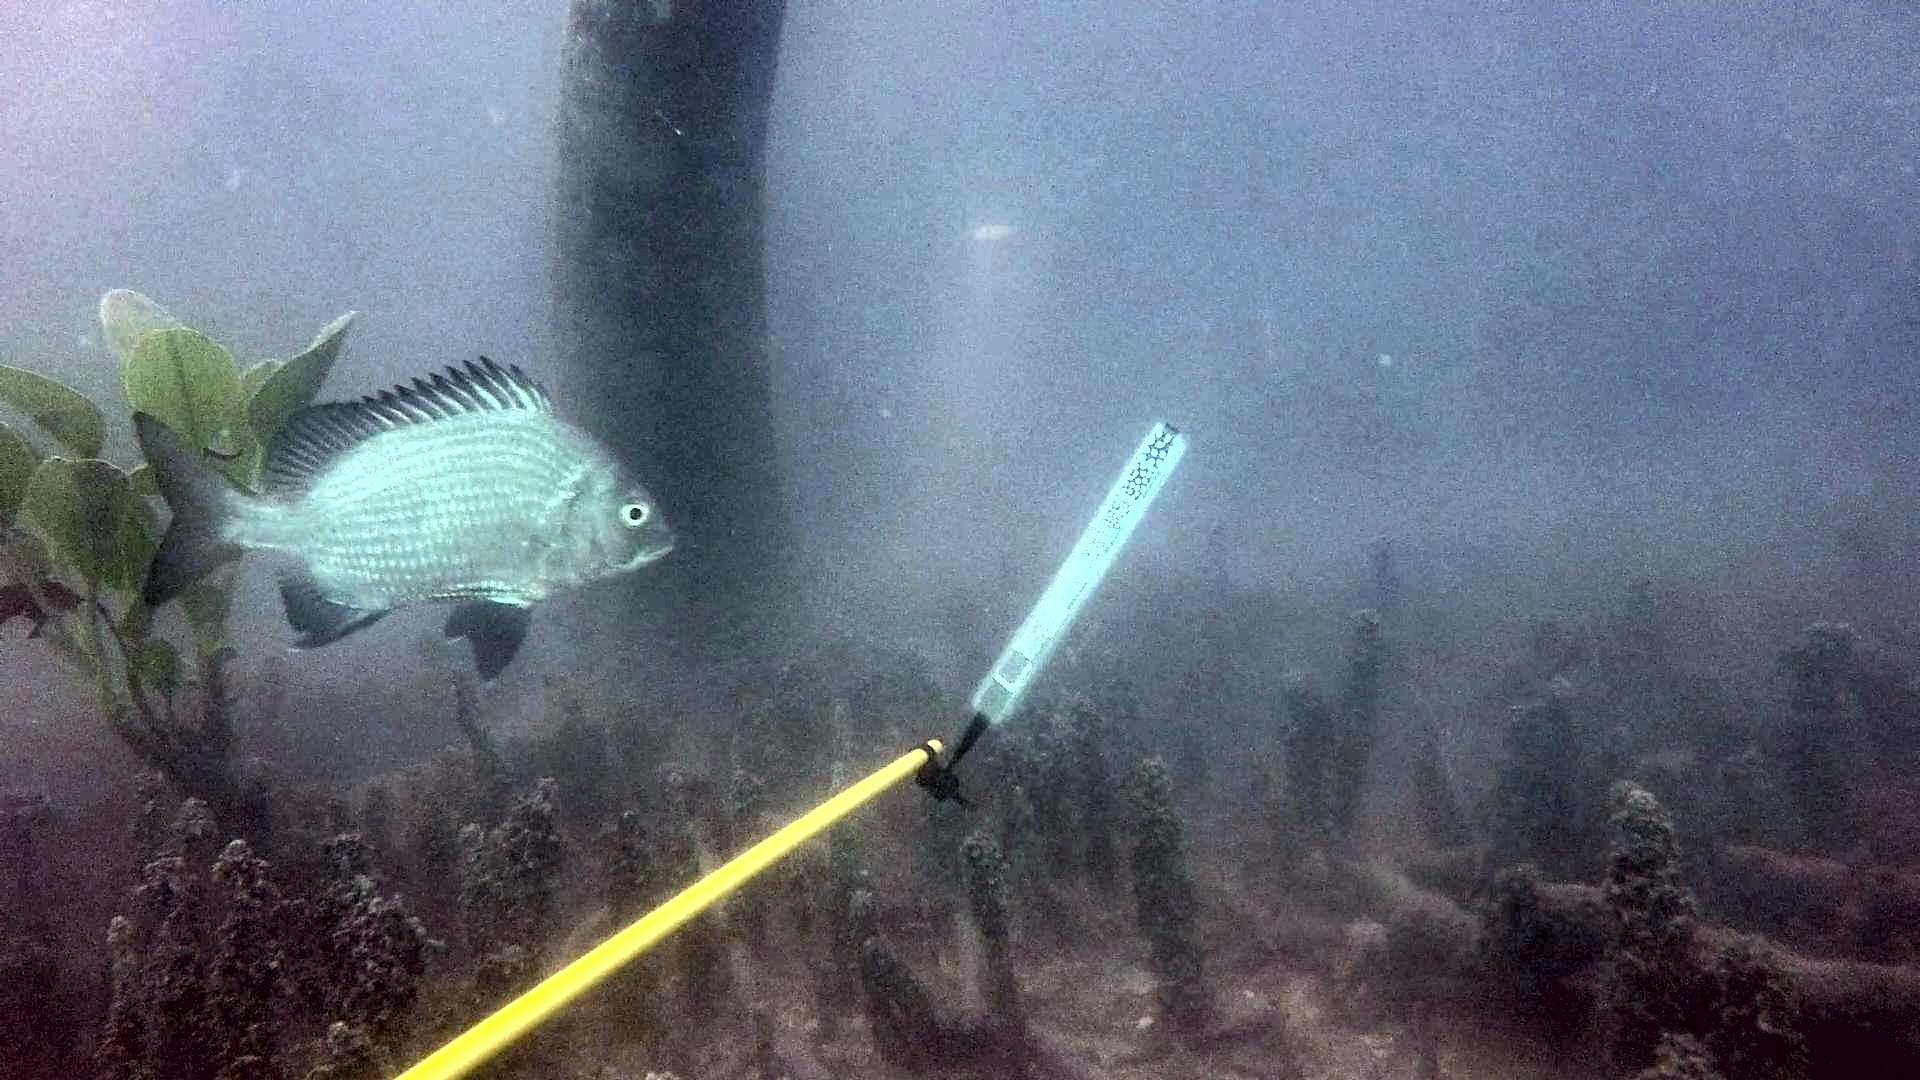acanthopagrus palmaris: (113, 346, 688, 697)
